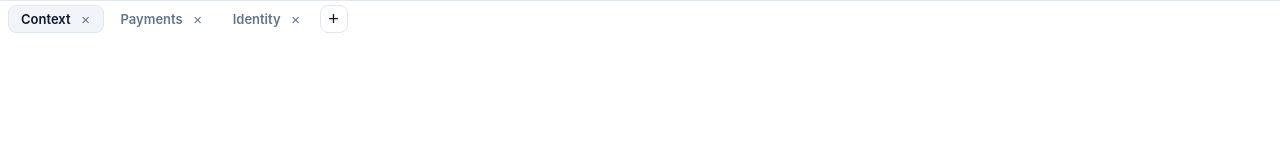
PageTabs — renaming › keeps the original name when the rename is cancelled
The width and height of the screenshot is (1280, 160).
Double-click the tab "Context ×".
double_click(56, 19)  # box [8,5,104,33]
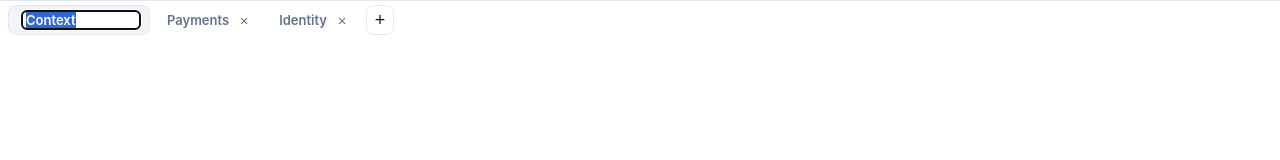
Replace the text in the field showing "Context" with "Discarded" at [81, 20], box [21,10,141,30]
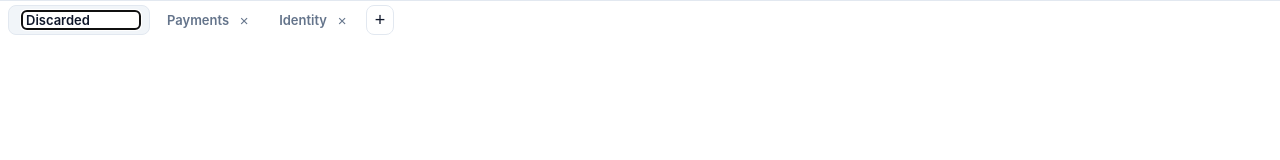
Press Escape in the field showing "Context", box [21,10,141,30]
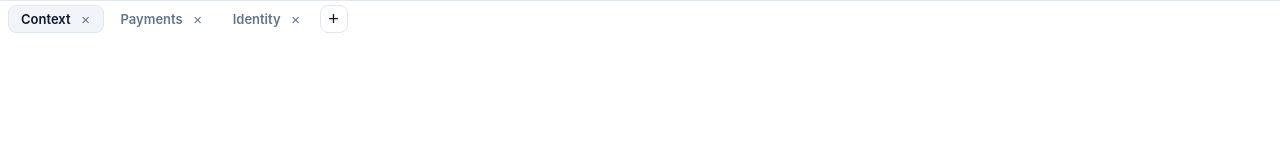
Expected: the text "Context" is shown, [21,11,70,27]
